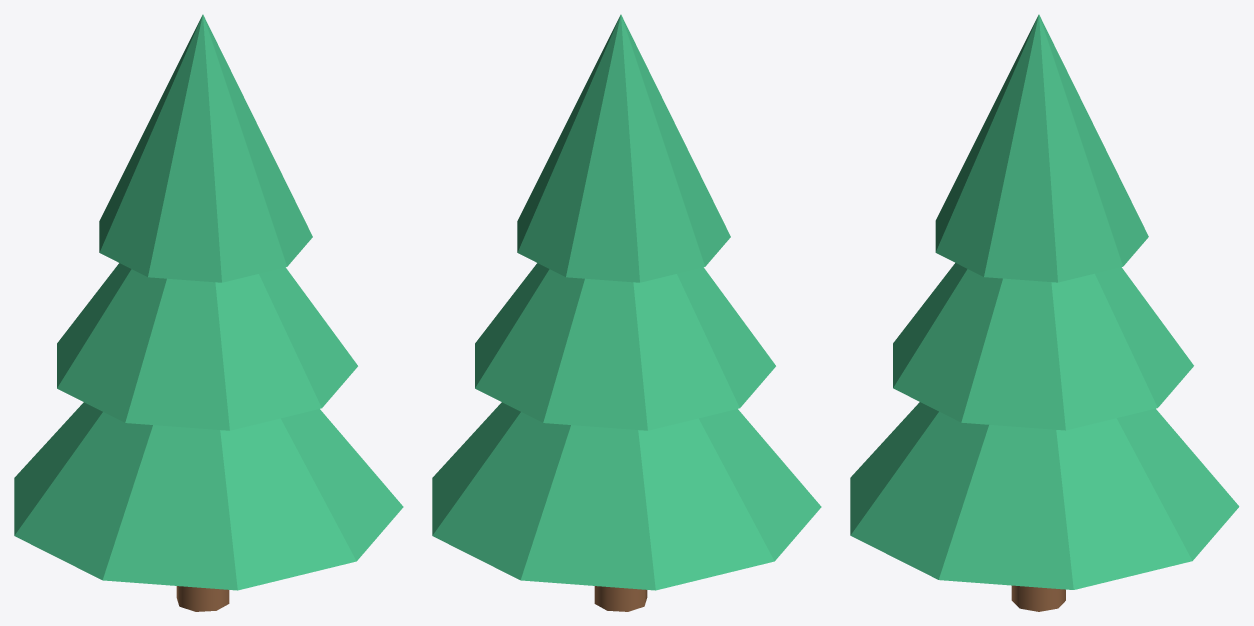
The model's file is tree_pine.glb.
3 renders of one model, left to right at view 1: azimuth 30°, elevation 25°; view 2: azimuth 150°, elevation 25°; view 3: azimuth 270°, elevation 25°, orthographic.
Visible parts, largest first — view 1: TreePineMesh; view 2: TreePineMesh; view 3: TreePineMesh.
Part boxes in pixels (<box>): TreePineMesh: <box>14,14,403,611</box>; TreePineMesh: <box>432,14,821,611</box>; TreePineMesh: <box>850,14,1239,611</box>.
Size of the model in its own units: 3.05 by 5 by 3.01.
